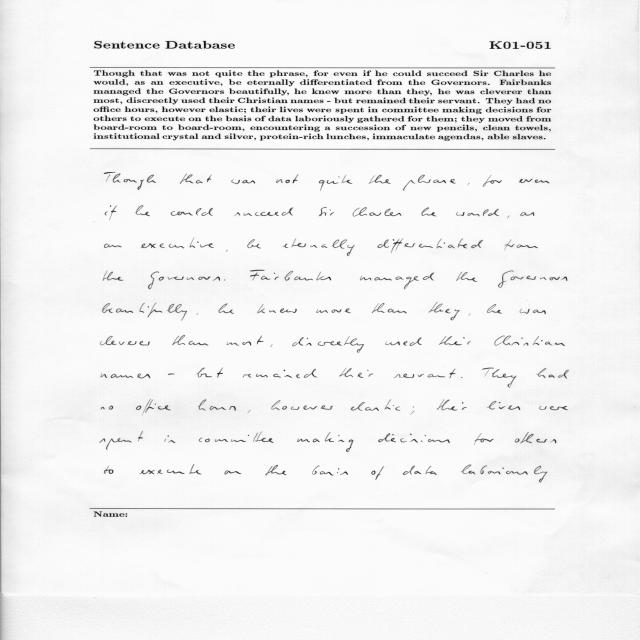word: (377, 238, 483, 253), (461, 465, 547, 483), (103, 303, 187, 321), (282, 239, 355, 257), (148, 272, 220, 290), (360, 273, 434, 290), (499, 270, 568, 288), (292, 336, 364, 353), (297, 432, 353, 452), (104, 172, 156, 190), (250, 270, 331, 281), (403, 175, 456, 191), (199, 432, 274, 443), (100, 432, 143, 450), (141, 238, 214, 248), (378, 433, 450, 443), (494, 336, 565, 346), (243, 369, 317, 378), (482, 368, 516, 387), (271, 400, 333, 410), (140, 465, 202, 475), (350, 399, 400, 411), (429, 303, 460, 321), (394, 369, 456, 378), (319, 175, 352, 191), (353, 207, 402, 217), (136, 399, 171, 413), (234, 208, 293, 216), (198, 399, 236, 411), (515, 432, 556, 443), (101, 336, 151, 345), (227, 336, 264, 346), (536, 368, 569, 379), (257, 304, 297, 313), (173, 336, 209, 346), (312, 466, 348, 476), (180, 173, 212, 184), (372, 303, 407, 313), (339, 368, 374, 378), (504, 240, 538, 250), (171, 208, 213, 216), (385, 337, 422, 346), (437, 400, 467, 411), (403, 466, 437, 475), (456, 209, 499, 216), (487, 401, 520, 410), (439, 336, 471, 345), (196, 368, 223, 378), (101, 374, 150, 379), (474, 433, 494, 445), (483, 175, 502, 187), (456, 272, 477, 282), (266, 465, 287, 475), (104, 271, 124, 281), (276, 175, 298, 184), (369, 175, 391, 184), (371, 466, 384, 480), (218, 303, 234, 314), (316, 308, 351, 313), (105, 206, 117, 220), (136, 206, 151, 216), (319, 207, 334, 216), (422, 208, 437, 217), (487, 304, 502, 313), (520, 309, 546, 314), (247, 239, 261, 248), (519, 179, 549, 183), (539, 406, 568, 410), (231, 180, 255, 184), (104, 243, 122, 248), (165, 435, 176, 443), (105, 465, 114, 474), (224, 471, 241, 475), (520, 212, 534, 216), (101, 406, 113, 410), (410, 406, 414, 415), (168, 373, 175, 375), (248, 410, 251, 413), (508, 215, 510, 219), (271, 344, 273, 348), (469, 313, 471, 316), (226, 250, 228, 252), (197, 313, 199, 315), (461, 377, 463, 378), (468, 183, 469, 184), (224, 280, 225, 281)
